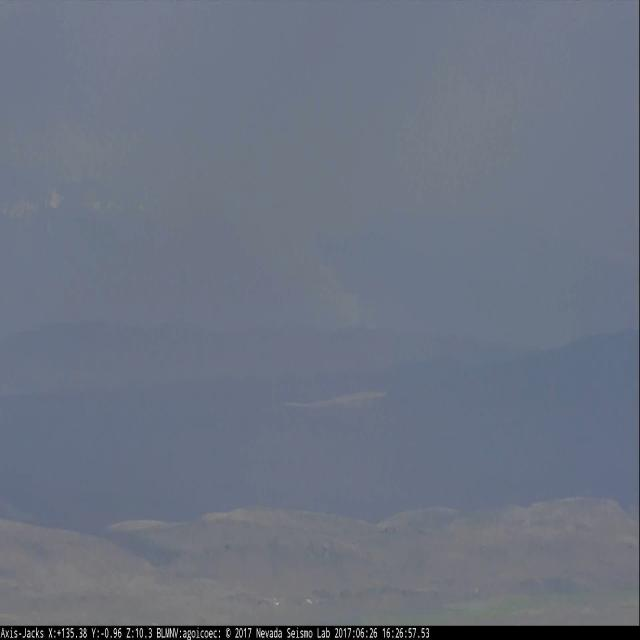smoke: (296, 254, 384, 327)
